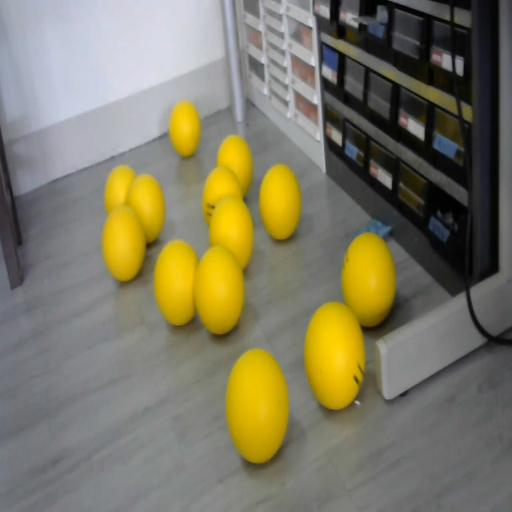FUEL: (225, 346, 289, 462), (303, 300, 366, 410), (341, 232, 396, 327), (194, 246, 244, 334), (154, 240, 198, 326), (102, 204, 146, 282), (258, 164, 302, 240), (216, 134, 254, 196), (169, 100, 201, 157), (104, 164, 136, 214)
